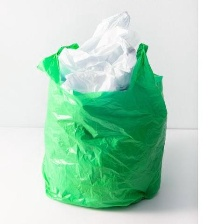plastic_bag: (31, 35, 169, 210), (55, 3, 145, 99)
